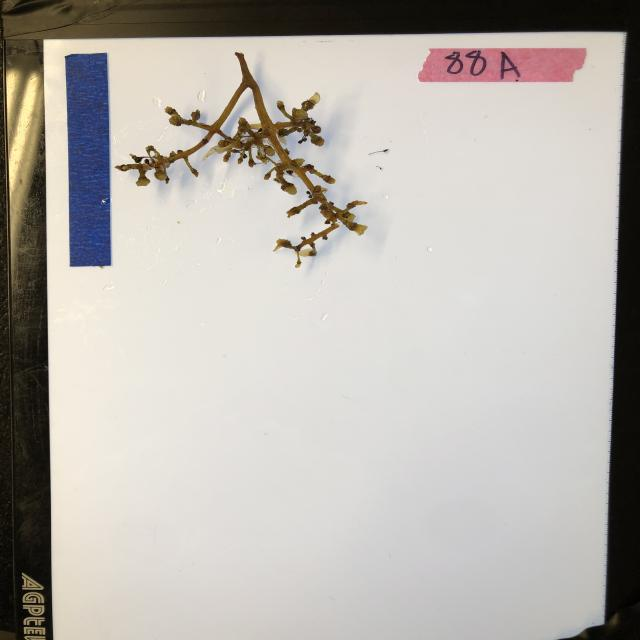index: (415, 46, 589, 84)
measure_label: (65, 52, 113, 268)
rachis_cluster: (113, 49, 370, 270)
